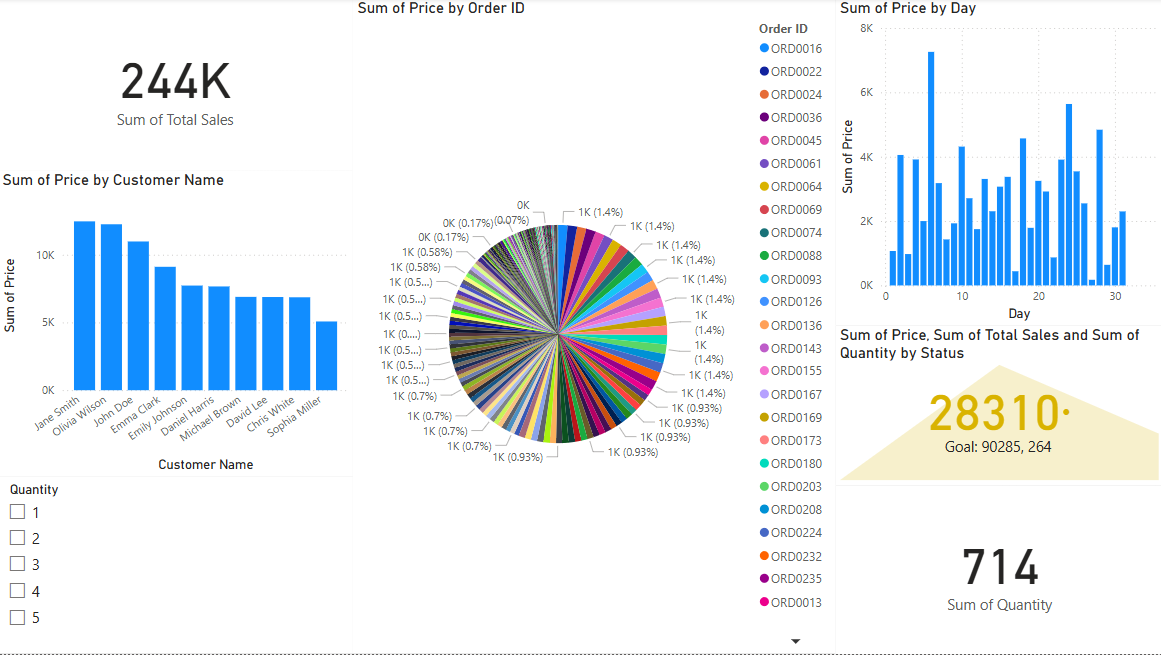

The dashboard page shown, as its layout file describes it:
{"tool":"powerbi","page":{"name":"Page 1","canvas":[1280,720],"ordinal":0},"visuals":[{"type":"columnChart","fields":{"Category":["sales csv.Customer Name"],"Y":["Sum(sales csv.Price)"]},"box":[0,189.4,389.7,336.2],"z":0},{"type":"card","fields":{"Values":["Sum(sales csv.Total Sales)"]},"box":[0,0,389.7,189.4],"z":1000},{"type":"card","fields":{"Values":["Sum(sales csv.Quantity)"]},"box":[919.4,535.2,360.9,185.2],"z":2000},{"type":"clusteredColumnChart","fields":{"Y":["Sum(sales csv.Price)"],"Category":["sales csv.Date.Variation.Date Hierarchy.Day"]},"box":[919.4,0,360.9,359.5],"z":3000},{"type":"pieChart","fields":{"Category":["sales csv.Order ID"],"Y":["Sum(sales csv.Price)"]},"box":[389.7,0,529.7,719],"z":4000},{"type":"slicer","fields":{"Values":["sales csv.Quantity"]},"box":[0,525.6,389.7,193.5],"z":4001},{"type":"kpi","fields":{"Indicator":["Sum(sales csv.Price)"],"Goal":["Sum(sales csv.Total Sales)","Sum(sales csv.Quantity)"],"TrendLine":["sales csv.Status"]},"box":[919.4,359.5,360.9,175.6],"z":4002}]}

Visuals, with their boxes in screenshot pixels (x1, y1, x2, y2), scaled from the page's 1280x720 canvas onto the 1161x655 screenshot:
columnChart - sales csv.Customer Name x Sum(sales csv.Price): BBox(0, 172, 353, 478)
card - Sum(sales csv.Total Sales): BBox(0, 0, 353, 172)
card - Sum(sales csv.Quantity): BBox(834, 487, 1160, 654)
clusteredColumnChart - Sum(sales csv.Price) x sales csv.Date.Variation.Date Hierarchy.Day: BBox(834, 0, 1160, 327)
pieChart - sales csv.Order ID x Sum(sales csv.Price): BBox(353, 0, 834, 654)
slicer - sales csv.Quantity: BBox(0, 478, 353, 654)
kpi - Sum(sales csv.Price) x Sum(sales csv.Total Sales): BBox(834, 327, 1160, 487)
